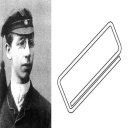Metal: (54, 18, 126, 116)
